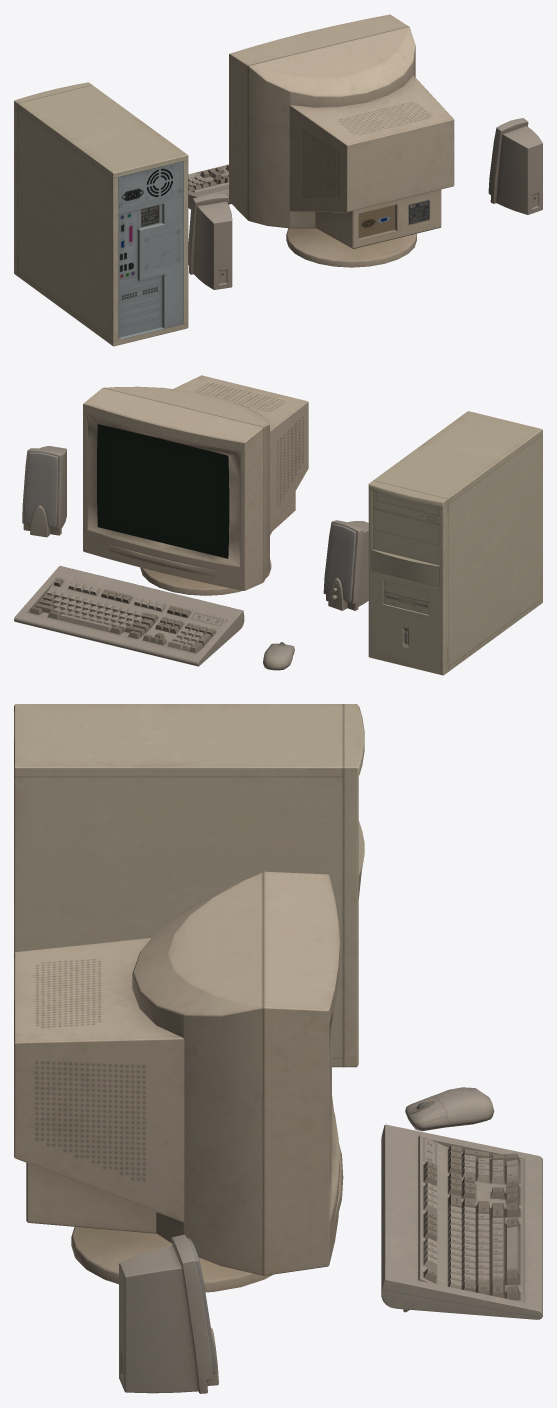
The picture shows the model from 3 angles, top to bottom: view 1: azimuth 30°, elevation 25°; view 2: azimuth 150°, elevation 25°; view 3: azimuth 270°, elevation 25°; orthographic projection. The views are drawn at different scales.
Parts seen in each view (by area): view 1: bake2; view 2: bake2; view 3: bake2.
Boxes of the visible parts, x1,y1,x2,y2 form: bake2: (14,14,542,346); bake2: (14,375,542,675); bake2: (14,704,542,1393).
Size of the model in its own units: 343 by 128 by 195.
Materials: 1 (1 with a texture image).
